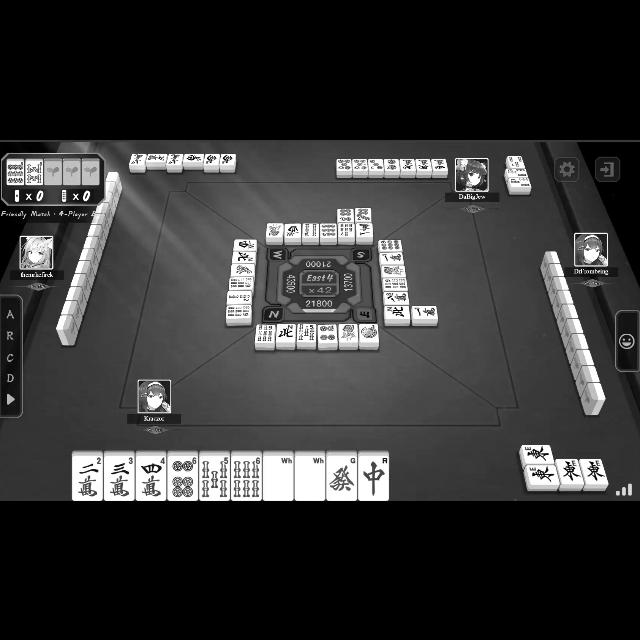1m: (412, 304, 438, 318), (380, 252, 402, 264), (357, 223, 373, 237)
1p: (361, 323, 379, 341)
1s: (340, 323, 358, 341), (381, 266, 405, 276), (268, 222, 282, 238)
2m: (72, 454, 102, 500)
2p: (384, 158, 398, 170)
2s: (227, 291, 251, 303)
3m: (104, 455, 134, 499)
3p: (369, 160, 383, 170)
3s: (508, 155, 524, 167), (510, 177, 530, 186), (507, 168, 528, 176)
4m: (136, 455, 166, 499), (434, 159, 446, 169)
4p: (318, 324, 338, 342)
4s: (304, 224, 318, 236)
5m: (418, 158, 430, 170)
5p: (337, 158, 351, 170), (354, 158, 366, 170)
5s: (200, 455, 230, 497), (296, 324, 316, 342)
6m: (401, 158, 413, 170)
6p: (169, 456, 197, 498), (338, 208, 354, 220)
6s: (231, 456, 261, 498)
7m: (130, 154, 144, 164), (167, 154, 181, 164), (148, 153, 164, 161)
7p: (356, 208, 370, 220)
7s: (338, 222, 354, 236)
8m: (384, 290, 408, 304)
8s: (26, 159, 42, 183)
9p: (8, 160, 24, 182), (378, 239, 402, 251), (320, 222, 336, 235)
9s: (226, 304, 250, 318), (256, 324, 274, 342), (384, 278, 408, 290), (230, 278, 252, 288)
chun: (360, 456, 388, 498)
haku: (264, 456, 294, 499), (296, 456, 324, 500)
hatsu: (328, 455, 356, 499), (231, 265, 253, 275)
nan: (204, 154, 218, 164), (222, 154, 234, 164), (185, 154, 203, 160)
pe: (385, 304, 409, 318), (278, 323, 294, 341), (232, 251, 255, 263)
sha: (234, 238, 256, 250), (285, 223, 301, 237)
tou: (523, 445, 551, 463), (561, 459, 581, 483), (585, 459, 605, 483), (528, 466, 556, 482)
